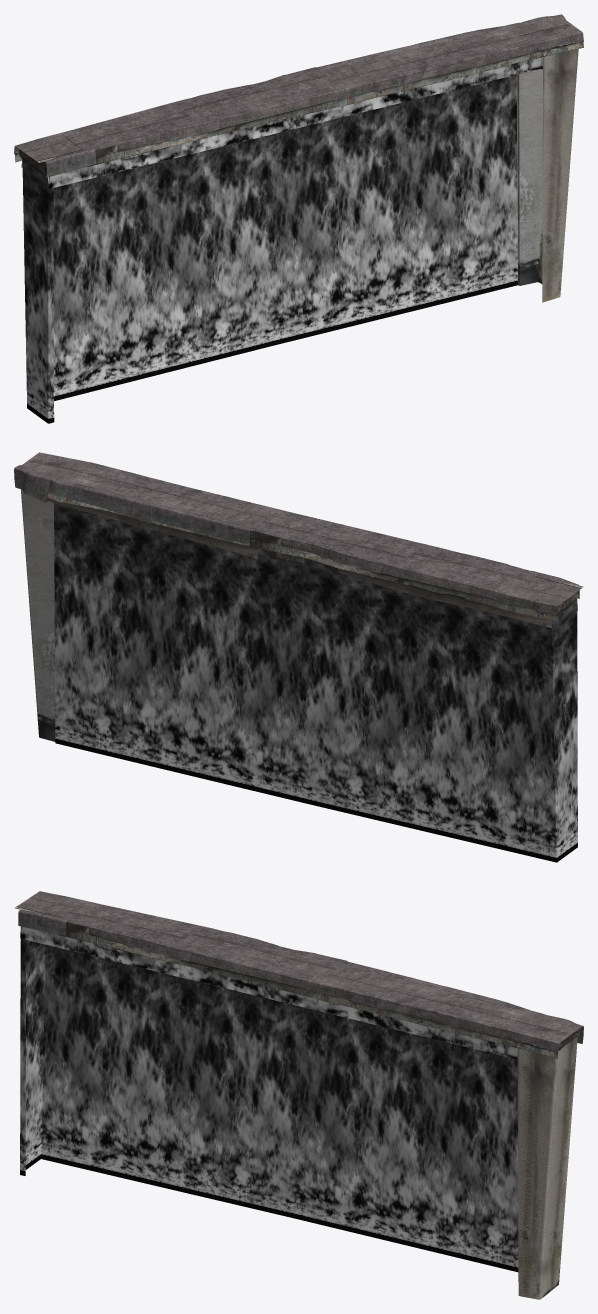
The picture shows the model from 3 angles, top to bottom: view 1: azimuth 30°, elevation 25°; view 2: azimuth 150°, elevation 25°; view 3: azimuth 330°, elevation 25°; orthographic projection.
Parts seen in each view (by area): view 1: sm_GarageColumnn_01_01_LOD0; view 2: sm_GarageColumnn_01_01_LOD0; view 3: sm_GarageColumnn_01_01_LOD0.
Boxes of the visible parts, bbox=[...] form: sm_GarageColumnn_01_01_LOD0: bbox=[14, 14, 583, 423]; sm_GarageColumnn_01_01_LOD0: bbox=[14, 452, 583, 862]; sm_GarageColumnn_01_01_LOD0: bbox=[14, 891, 583, 1299].
Size of the model in its own units: 74.2 by 714 by 331.
